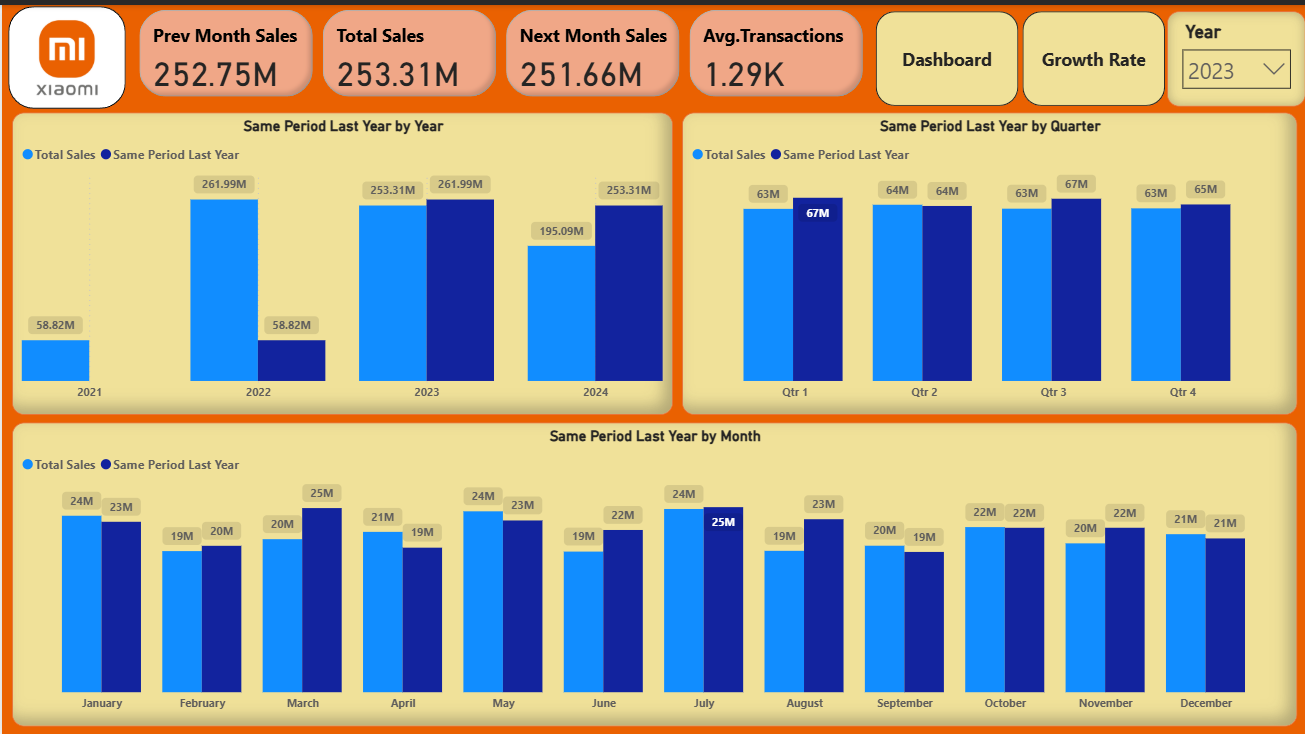

The page's visual inventory and layout, read from the dashboard file:
{"tool":"powerbi","page":{"name":"Same Period Last Year","canvas":[1280,720],"ordinal":2},"visuals":[{"type":"cardVisual","fields":{"Data":["Sales Data.Prev_Month_Sales","Sheet1.Total Sales","Sales Data.Next_Month_Sales","Sales Data.Avg.Transactions"]},"box":[130.1,0,720.2,95.7],"z":0},{"type":"shape","box":[6.1,0.9,115.3,100.6],"z":0,"group":"g1"},{"type":"image","box":[6.1,5.4,115.3,91.6],"z":1000,"group":"g1"},{"type":"slicer","fields":{"Values":["Sales Data.Date.Variation.Date Hierarchy.Year"]},"box":[1143.6,6.1,136.2,93.3],"z":1000},{"type":"clusteredColumnChart","title":"Same Period Last Year by Month","fields":{"Category":["Sales Data.Date.Variation.Date Hierarchy.Month"],"Y":["Sales Data.Total Sales","Sales Data.Same Period Last Year"]},"box":[9.8,409.8,1261.4,298.2],"z":2000},{"type":"clusteredColumnChart","title":"Same Period Last Year by Quarter","fields":{"Category":["Sales Data.Date.Variation.Date Hierarchy.Quarter"],"Y":["Sales Data.Total Sales","Sales Data.Same Period Last Year"]},"box":[667.5,105.5,603.7,296.9],"z":4000},{"type":"clusteredColumnChart","title":"Same Period Last Year by Year","fields":{"Category":["Sales Data.Date.Variation.Date Hierarchy.Year"],"Y":["Sales Data.Total Sales","Sales Data.Same Period Last Year"]},"box":[9.8,105.5,649.1,296.9],"z":5000},{"type":"group","id":"g1","title":"Group 1","box":[6.1,0.9,115.3,100.6],"z":6000},{"type":"group","id":"g2","title":"Group 3","box":[858.3,5.7,285.9,93.3],"z":6001},{"type":"pageNavigator","box":[858.3,5.7,285.9,93.3],"z":14000,"group":"g2"}]}

Visuals, with their boxes in screenshot pixels (x1, y1, x2, y2), scaled from the page's 1280x720 canvas onto the 1305x734 screenshot:
cardVisual - Sales Data.Prev_Month_Sales x Sheet1.Total Sales: 133:0:867:98
shape: 6:1:124:103
image: 6:6:124:99
slicer - Sales Data.Date.Variation.Date Hierarchy.Year: 1166:6:1304:101
"Same Period Last Year by Month" clusteredColumnChart: 10:418:1296:722
"Same Period Last Year by Quarter" clusteredColumnChart: 681:108:1296:410
"Same Period Last Year by Year" clusteredColumnChart: 10:108:672:410
"Group 1" group: 6:1:124:103
"Group 3" group: 875:6:1167:101
pageNavigator: 875:6:1167:101
